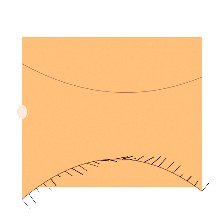pinguecula_lesion: (135, 94, 186, 135)
